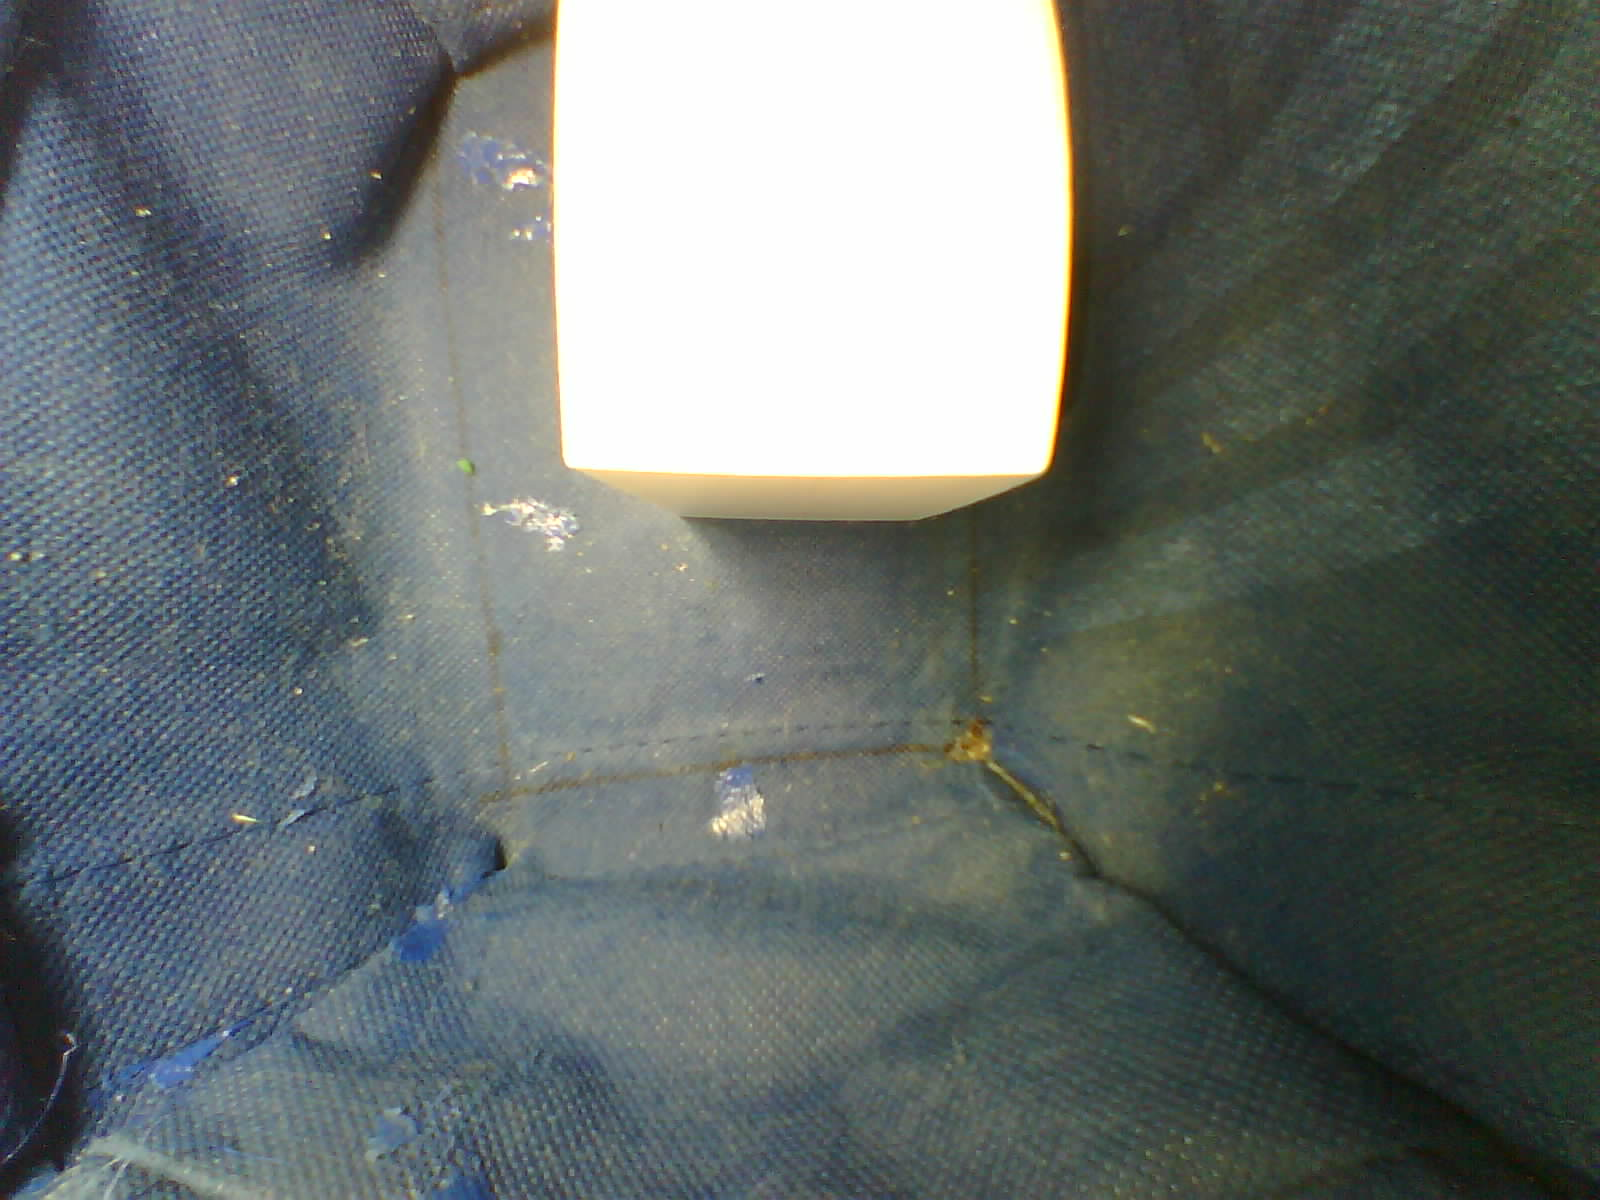cube-hard: (523, 0, 1082, 542)
